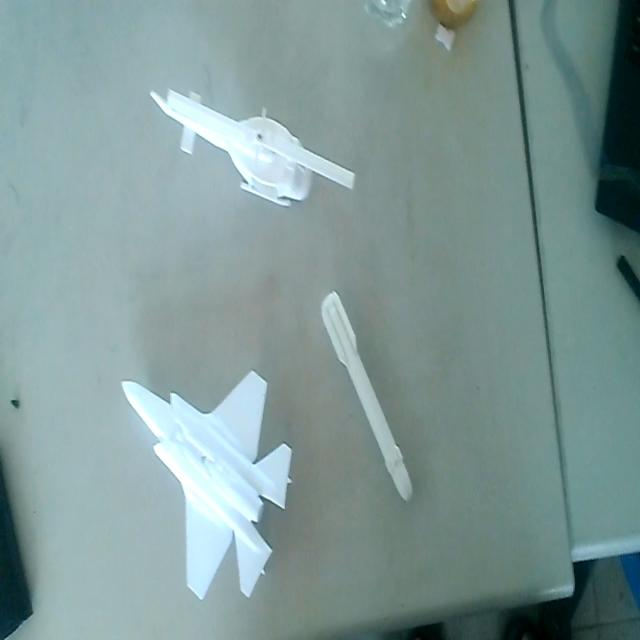Helicopter: (148, 74, 355, 217)
Jet: (120, 367, 296, 603)
Rocket: (319, 282, 414, 503)
